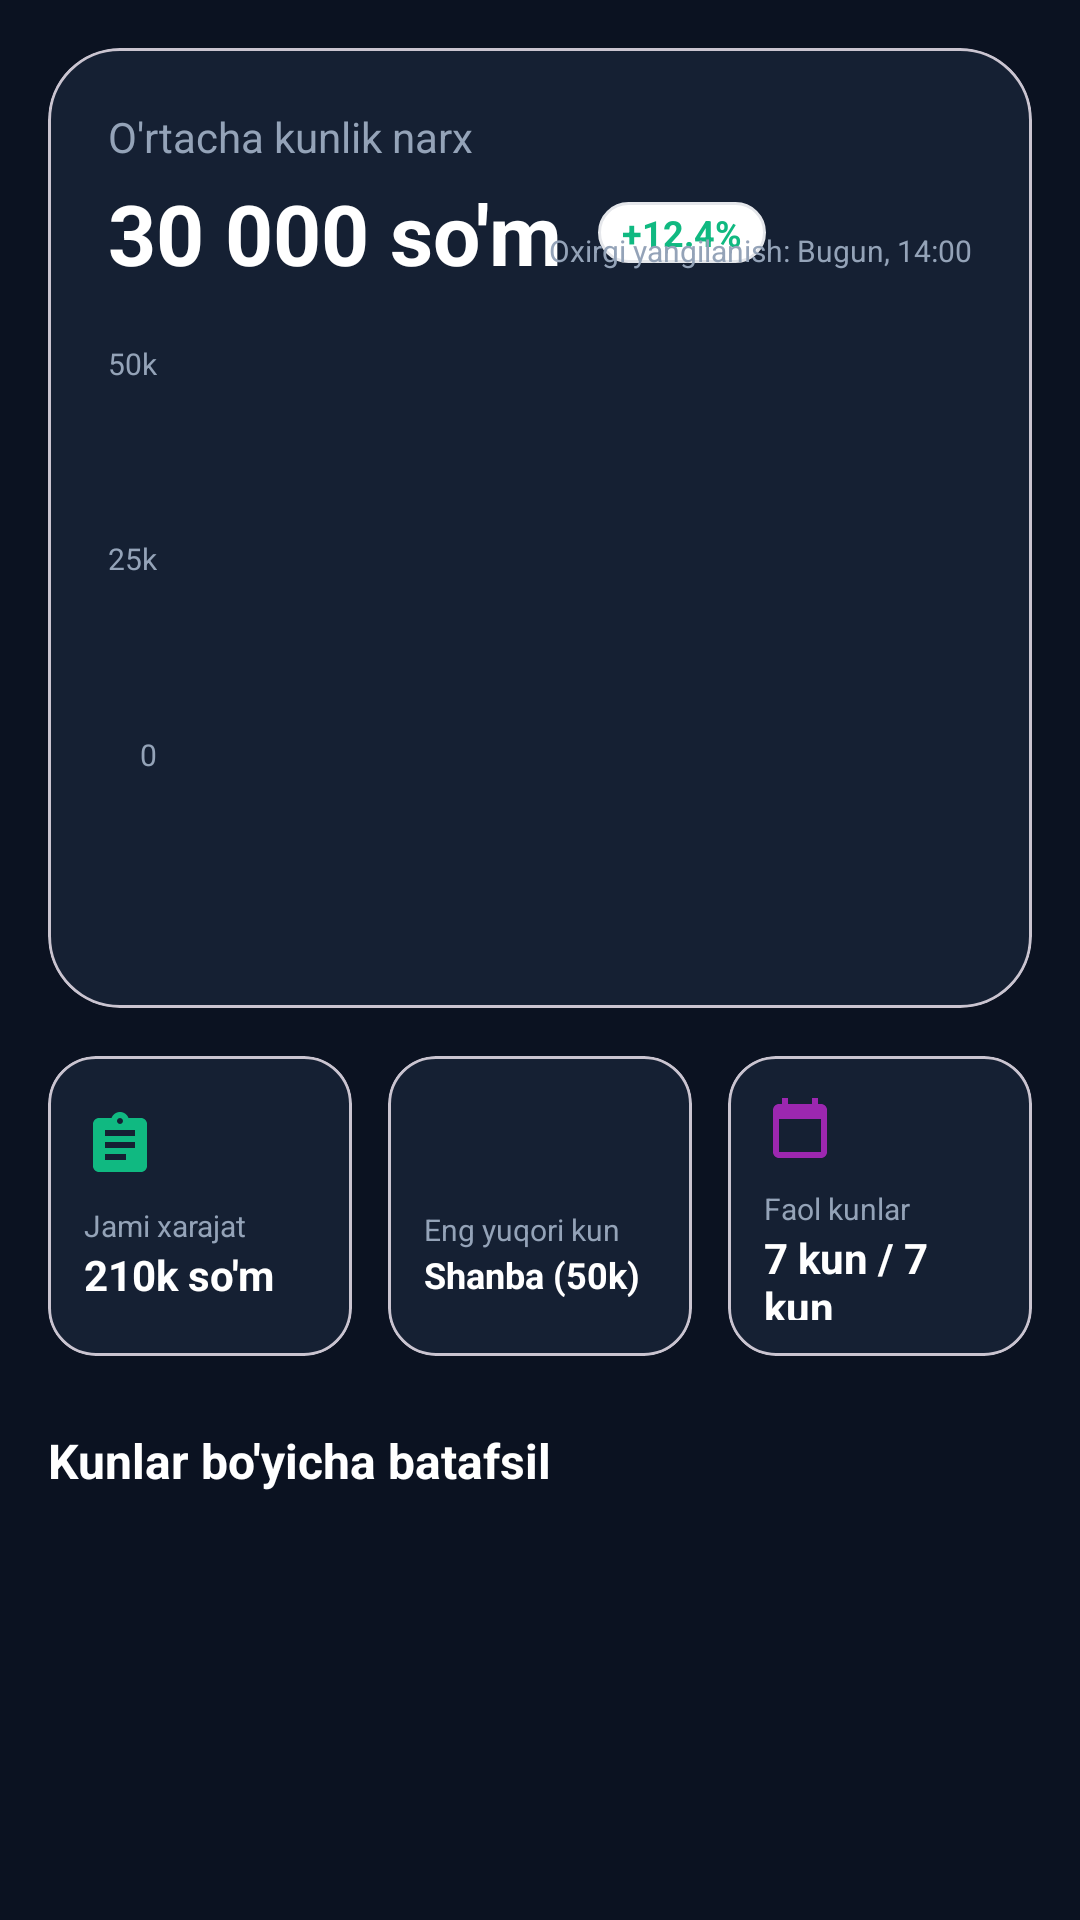

Icon bounding boxes for this 1080×1920 phone screenshot, format box(x1, y1, x2, y2):
calendar: box(773, 1098, 827, 1158)
